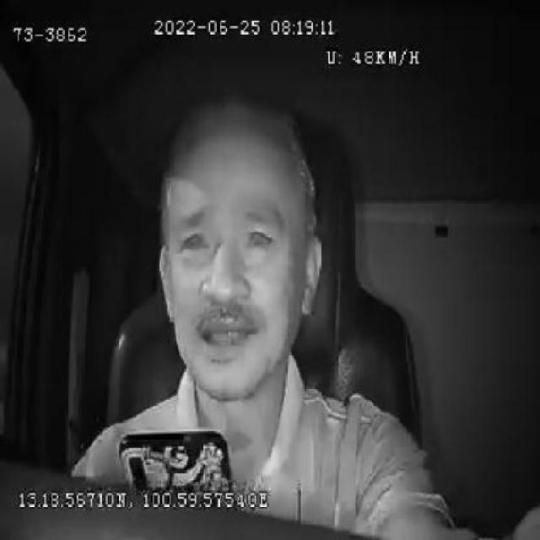phone: (117, 427, 236, 491)
